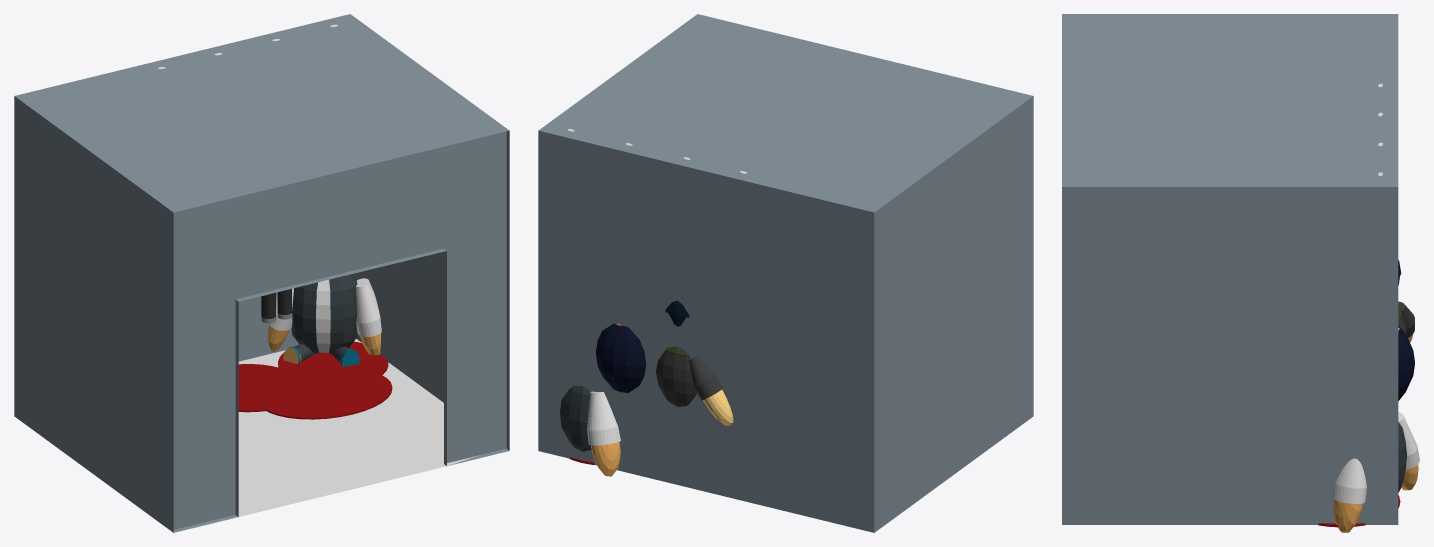
Rendered from RuangFreezer.glb.
The picture shows the model from 3 angles, left to right: view 1: azimuth 30°, elevation 25°; view 2: azimuth 150°, elevation 25°; view 3: azimuth 270°, elevation 25°; orthographic projection. The views are drawn at different scales.
Parts seen in each view (by area): view 1: Cube.045, leftLeg.006, Cylinder.023, Cylinder.021, Cylinder.022, body.014; view 2: Cube.045, head.012, leftLeg.006, body.014; view 3: Cube.045, leftLeg.006, body.014, head.012.
Boxes of the visible parts, x1,y1,x2,y2 form: Cube.045: (14,14,509,532); leftLeg.006: (267,274,381,366); Cylinder.023: (265,367,392,419); Cylinder.021: (238,364,304,412); Cylinder.022: (278,341,388,386); body.014: (261,289,291,323); Cube.045: (538,14,1033,532); head.012: (656,300,733,425); leftLeg.006: (560,386,620,476); body.014: (596,323,646,392); Cube.045: (1062,14,1398,524); leftLeg.006: (1331,412,1419,532); body.014: (1398,325,1414,400); head.012: (1398,259,1414,342).
Size of the model in its own units: 4.04 by 3.65 by 3.42.
